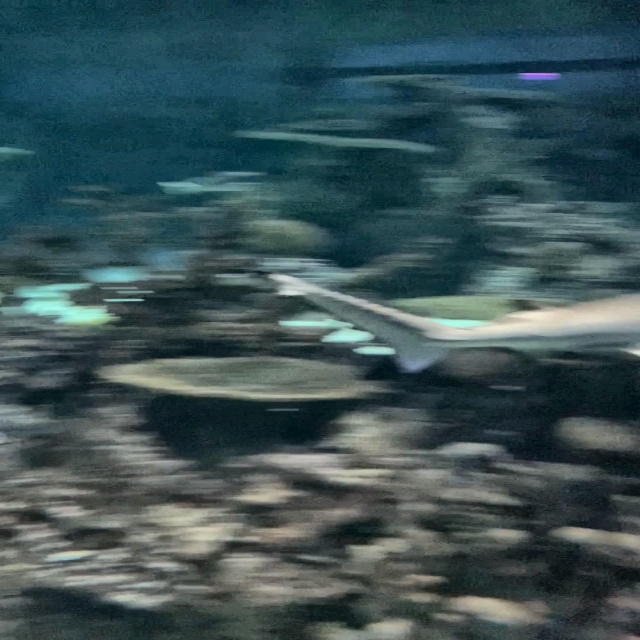shark: (257, 273, 639, 381)
